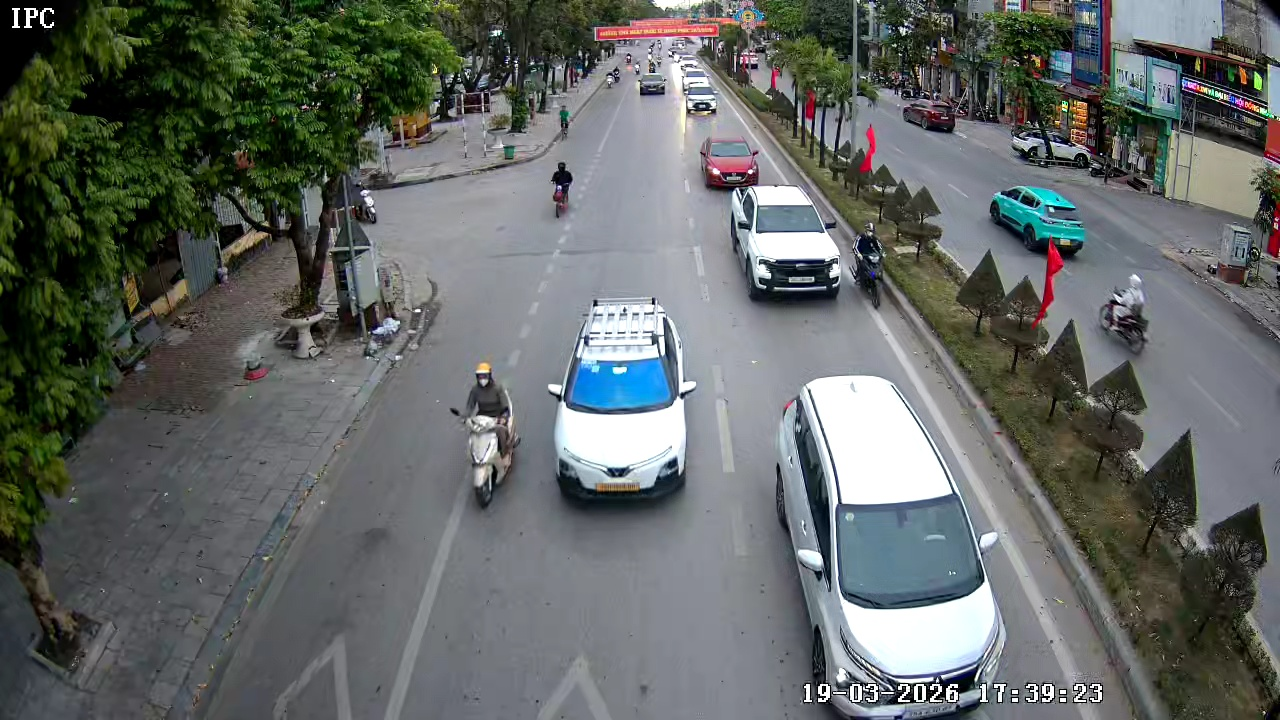bike: (548, 160, 576, 220), (556, 102, 573, 142)
car: (774, 374, 1007, 719), (547, 299, 698, 505), (729, 184, 842, 300), (988, 184, 1087, 254), (699, 134, 760, 191), (682, 82, 719, 118), (635, 70, 669, 99)
motorbike: (450, 362, 521, 510), (891, 181, 944, 265), (1099, 270, 1151, 351), (850, 220, 889, 306)
